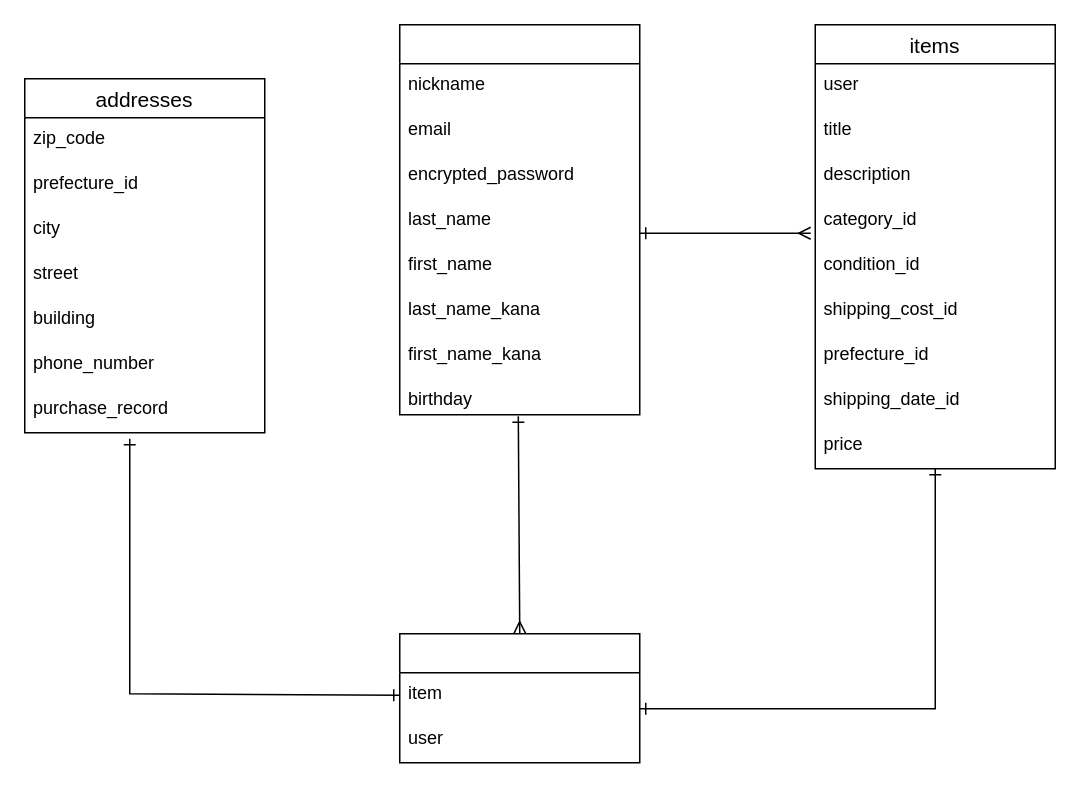
Image size: 1080x788. Some labels were removed from this diagram. Here are the shapes that lost their labels. From the top down, the box of each, then its label:
(398, 23, 640, 415): users
(398, 632, 640, 763): purchase_records
